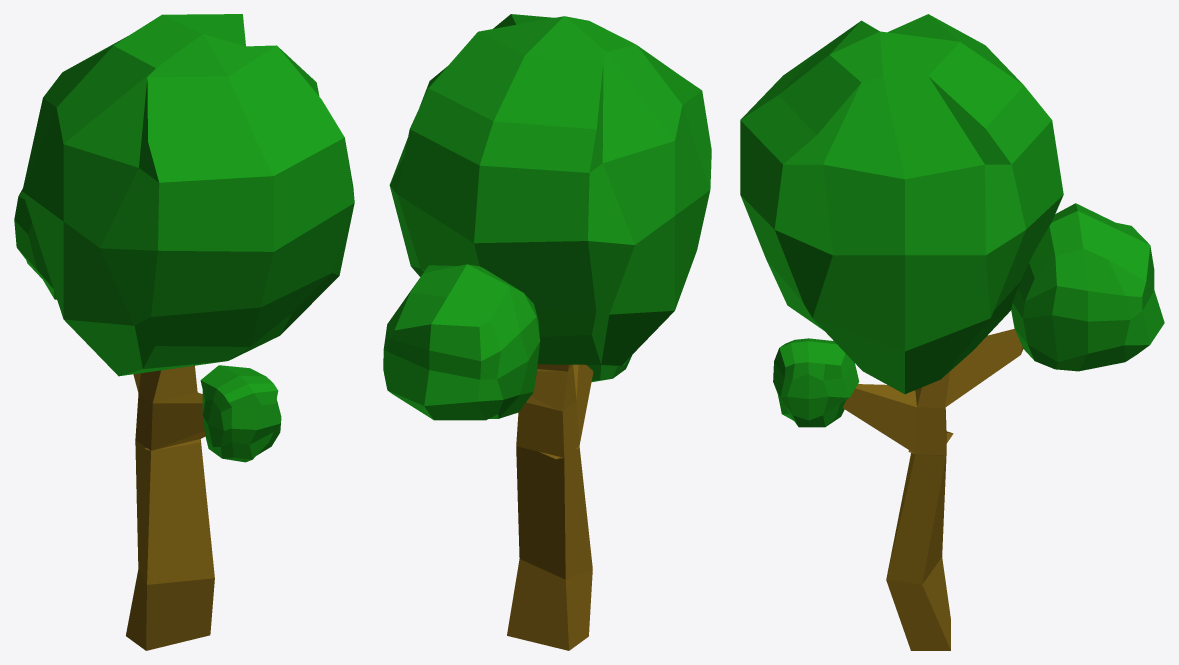
3 views of the same model, side by side, from view 1: azimuth 30°, elevation 25°; view 2: azimuth 150°, elevation 25°; view 3: azimuth 270°, elevation 25° (orthographic). The views are drawn at different scales.
Visible parts, largest first — view 1: Cube.001, Cube, Cube.003, Cube.002; view 2: Cube.001, Cube.002, Cube, Cube.003; view 3: Cube.001, Cube.002, Cube, Cube.003.
Part boxes in pixels (x1,y1,x2,y2): Cube.001: (22, 14, 354, 376); Cube: (126, 365, 214, 650); Cube.003: (200, 365, 281, 462); Cube.002: (14, 188, 56, 299); Cube.001: (389, 14, 711, 365); Cube.002: (383, 264, 540, 420); Cube: (507, 364, 593, 650); Cube.003: (587, 355, 632, 381); Cube.001: (740, 14, 1063, 394); Cube.002: (1011, 203, 1164, 371); Cube: (842, 329, 1023, 650); Cube.003: (773, 338, 859, 427).
Size of the model in its own units: 37.98 by 88.66 by 56.07.
